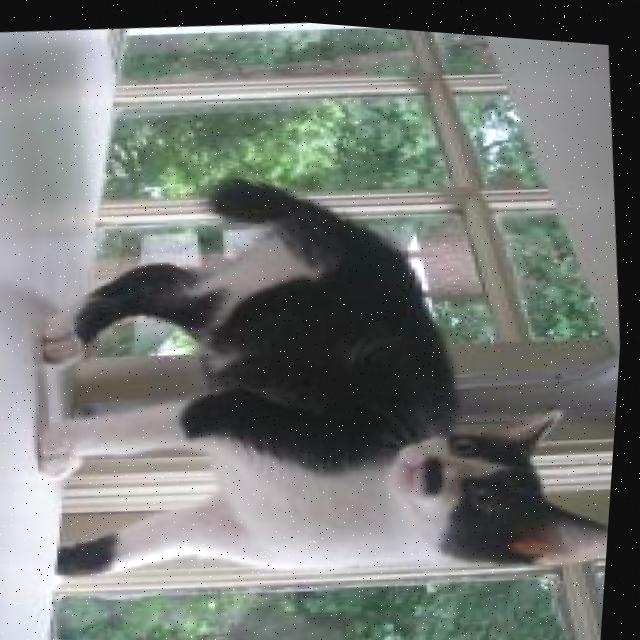American Bobtail: (11, 124, 634, 618)
